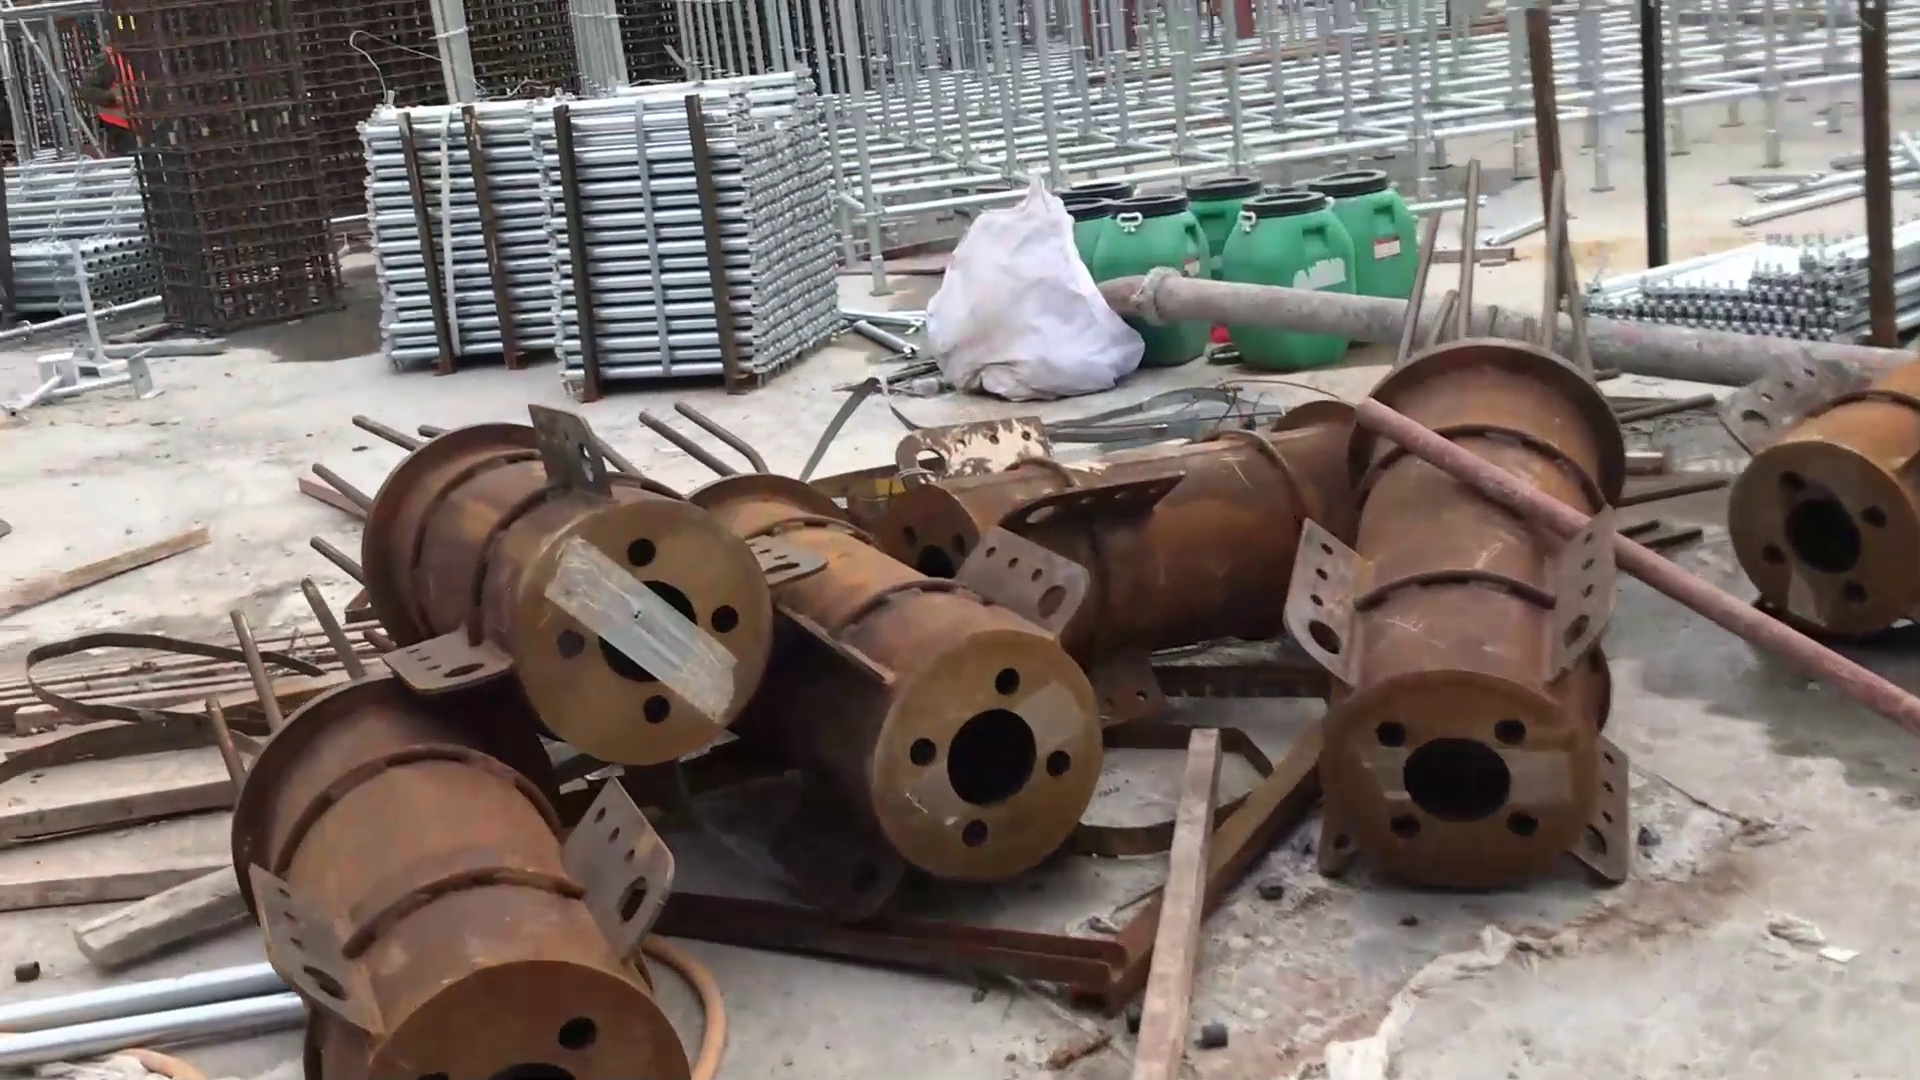person: (79, 10, 143, 161)
scaffold: (538, 52, 872, 409), (343, 83, 579, 376), (1, 138, 165, 312)
vest: (93, 44, 142, 136)
